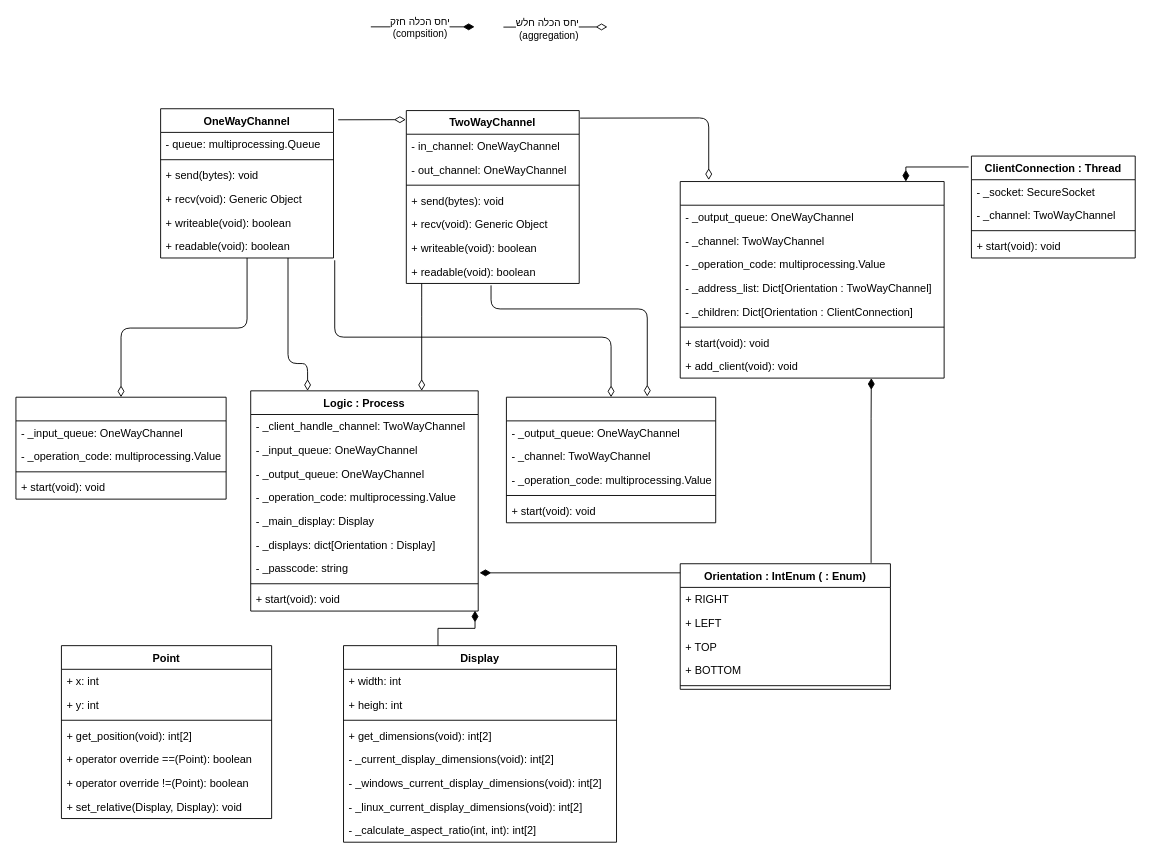
Some shapes in this 1151 by 861 pixel diagram are drawn without their labels. Each missing label, with the box of its shape:
ClientConnectionHandler : Thread: (679, 181, 944, 378)
Communication : Process: (506, 396, 716, 523)
Input : Process: (15, 396, 226, 499)
